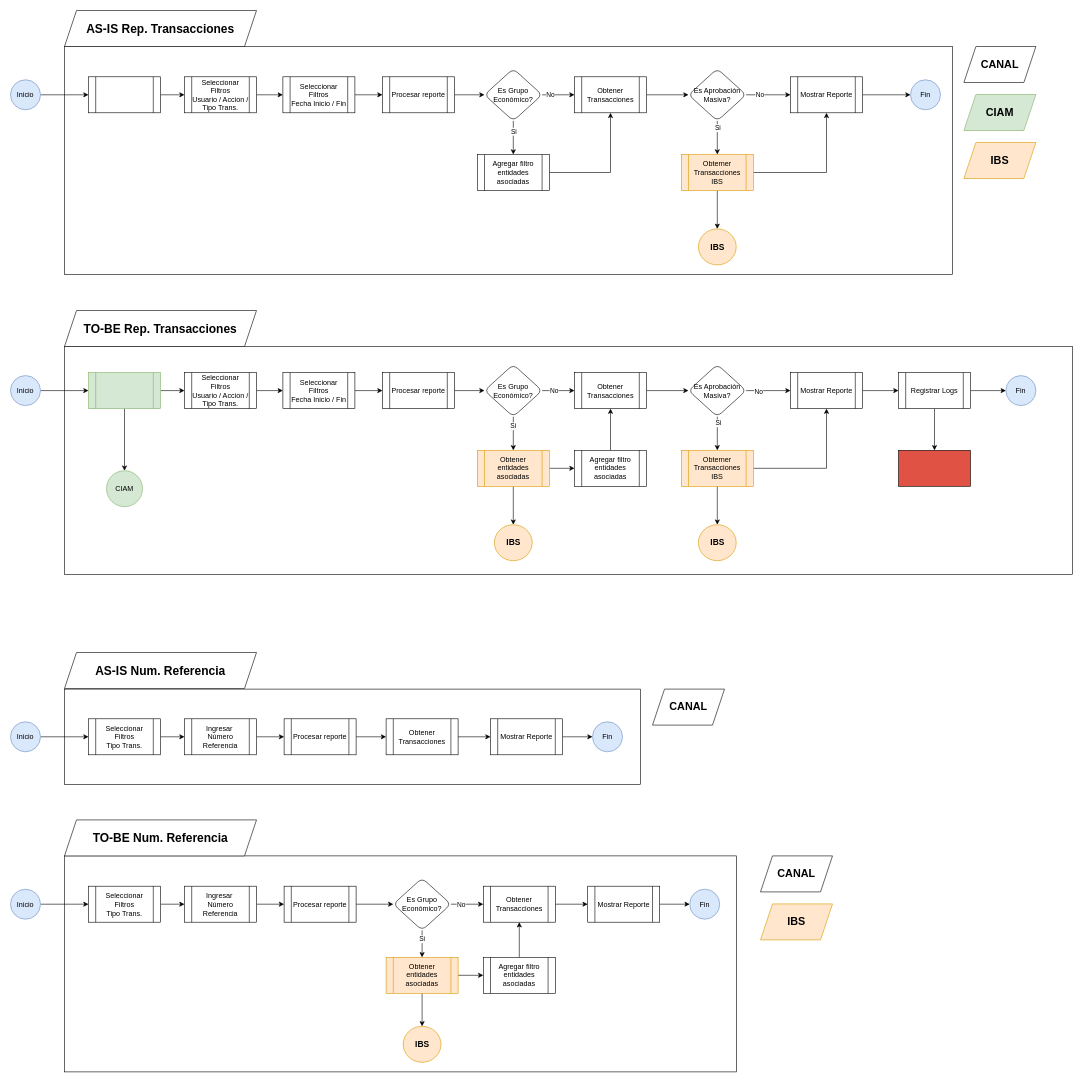
Some shapes in this 1083 by 1082 pixel diagram are drawn without their labels. The shapes that lost their labels are listed below. From the top down, each one's box as (x1, y1, x2, y2) in pixels, then its label:
(88, 76, 160, 113): Obtener usuarios por cliente
(88, 372, 160, 409): Obtener usuarios por RUC
(898, 450, 970, 486): AWS S3
